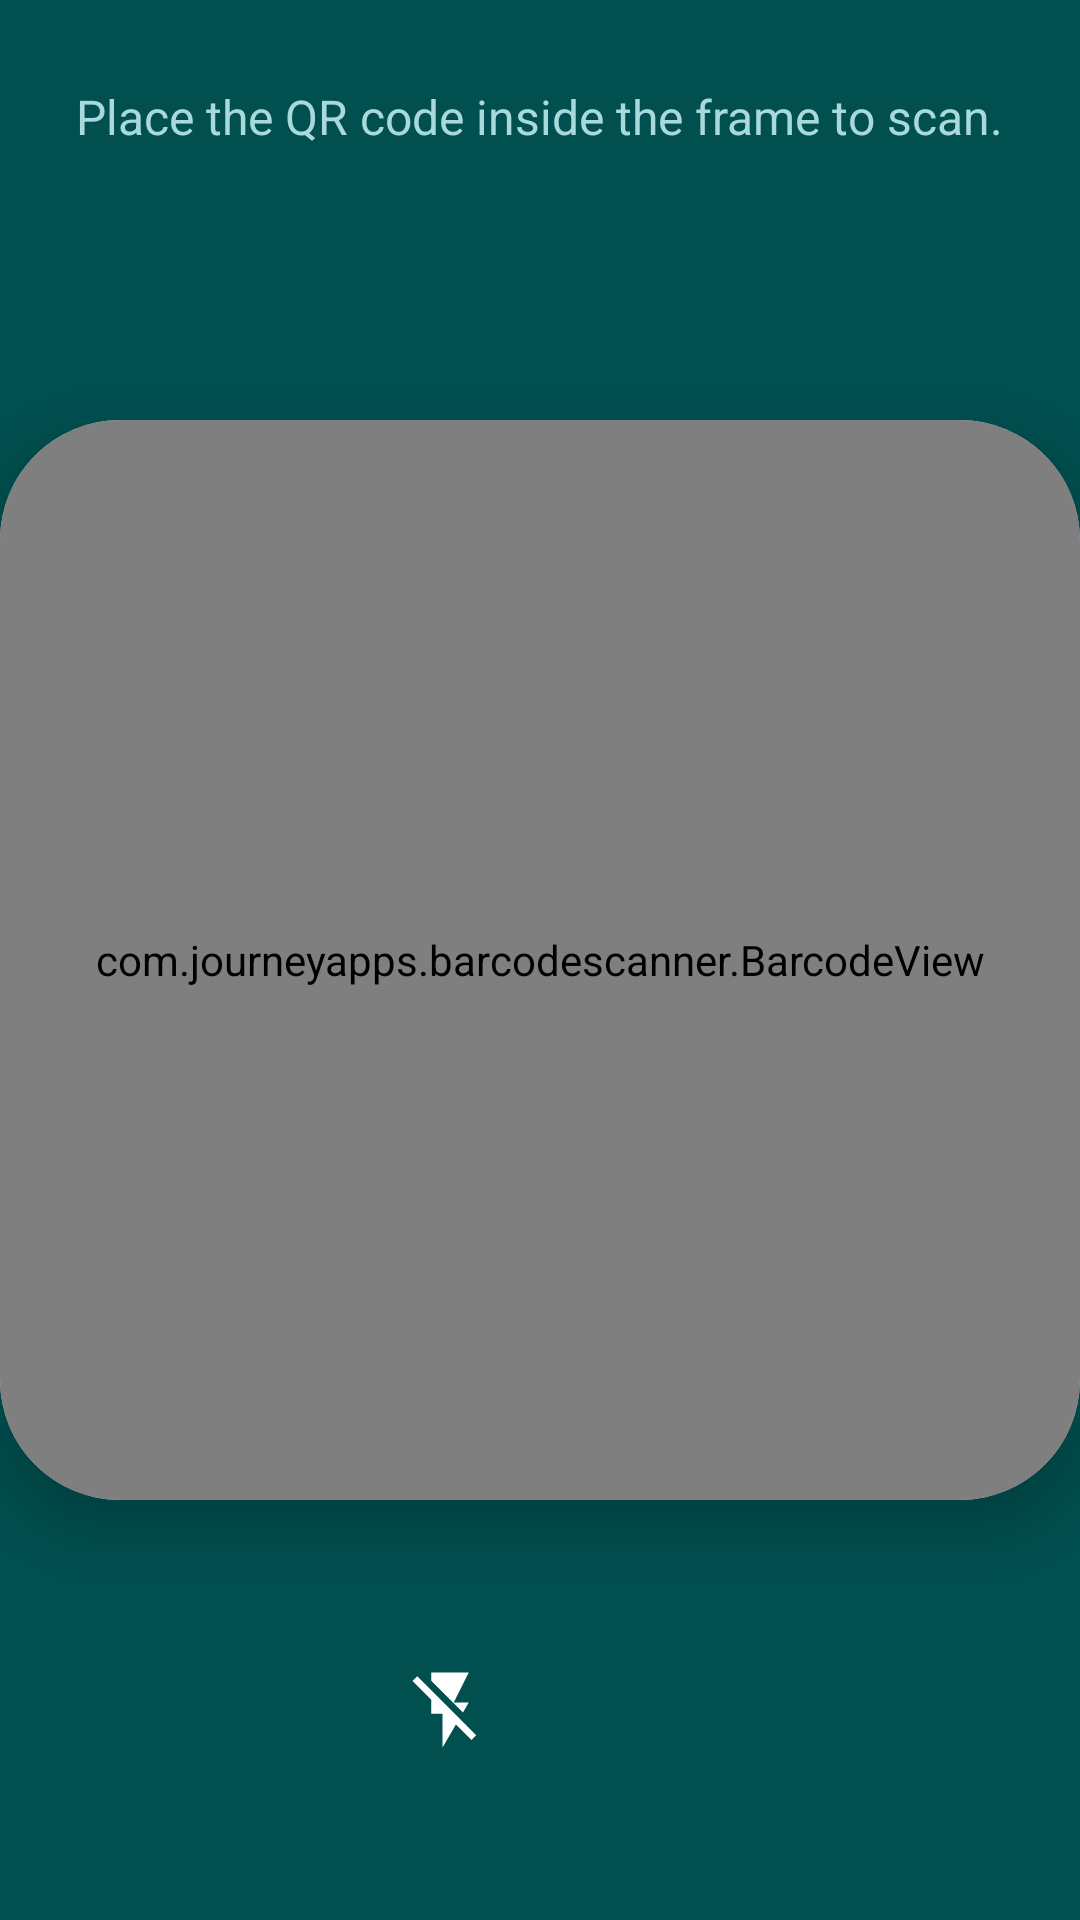

Point at icon controls on the screen. Image size 1080px x 1920px, points as [x,y].
Toggle Flashlight: [444,1709]
